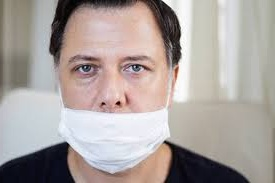mask_weared_incorrect: (56, 3, 168, 167)
